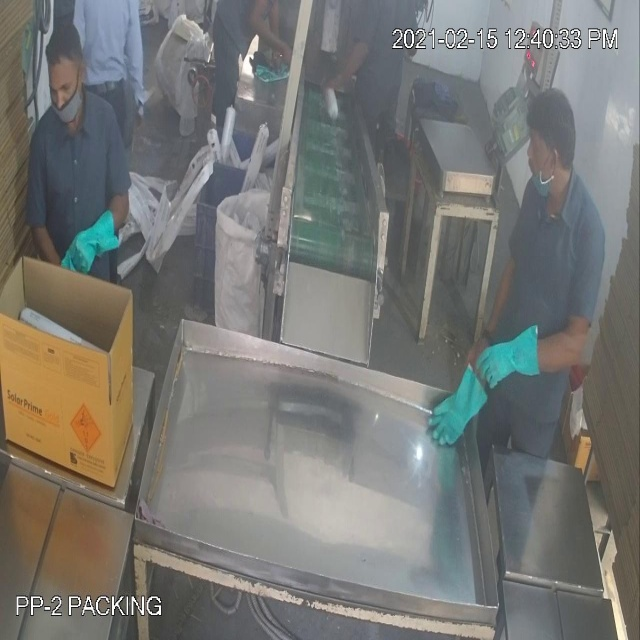Guantes: (428, 364, 491, 466), (61, 204, 132, 292), (486, 320, 552, 405)
Sin_guantes: (325, 28, 378, 106), (247, 1, 295, 60)
